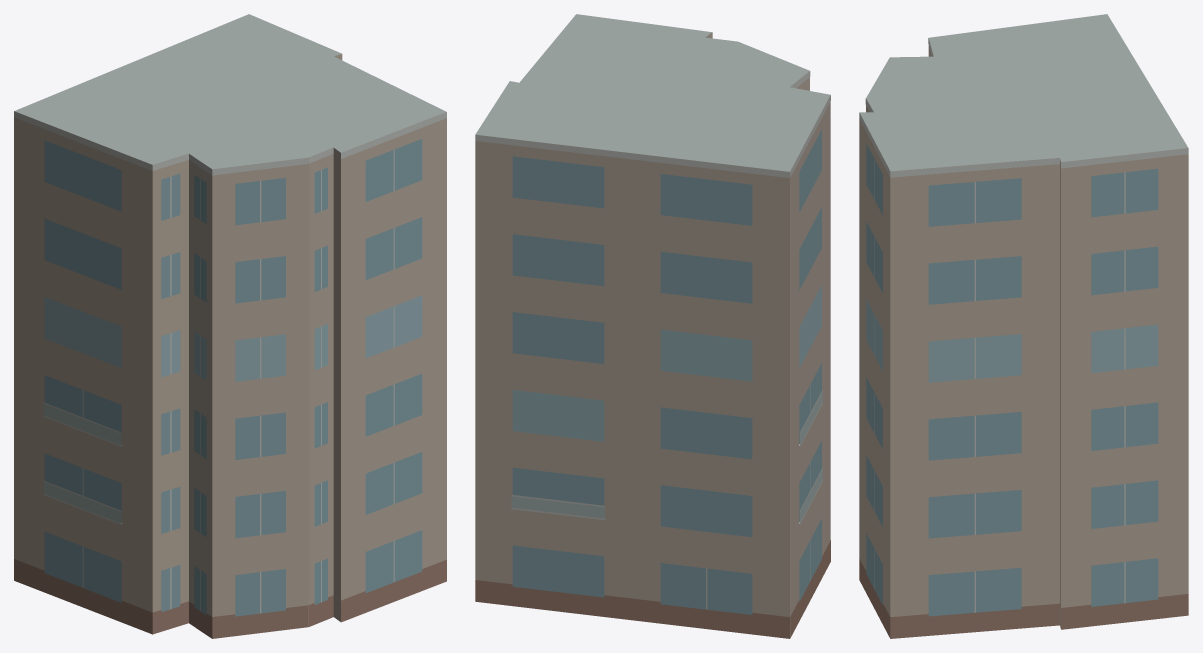
File: survey-upis-32803356.glb
3 views of the same model, side by side, from view 1: azimuth 30°, elevation 25°; view 2: azimuth 150°, elevation 25°; view 3: azimuth 270°, elevation 25° (orthographic).
Visible parts, largest first — view 1: survey-upis-32803356.tmp; view 2: survey-upis-32803356.tmp; view 3: survey-upis-32803356.tmp.
Boxes of the visible parts, x1,y1,x2,y2 form: survey-upis-32803356.tmp: [14, 14, 446, 638]; survey-upis-32803356.tmp: [475, 14, 830, 638]; survey-upis-32803356.tmp: [859, 14, 1188, 638].
Size of the model in its own units: 13.28 by 18.38 by 11.74.
